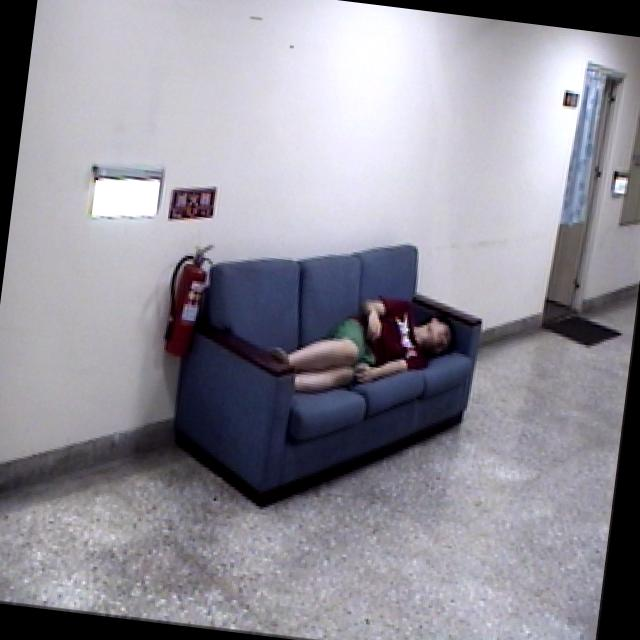lie: (264, 278, 460, 412)
